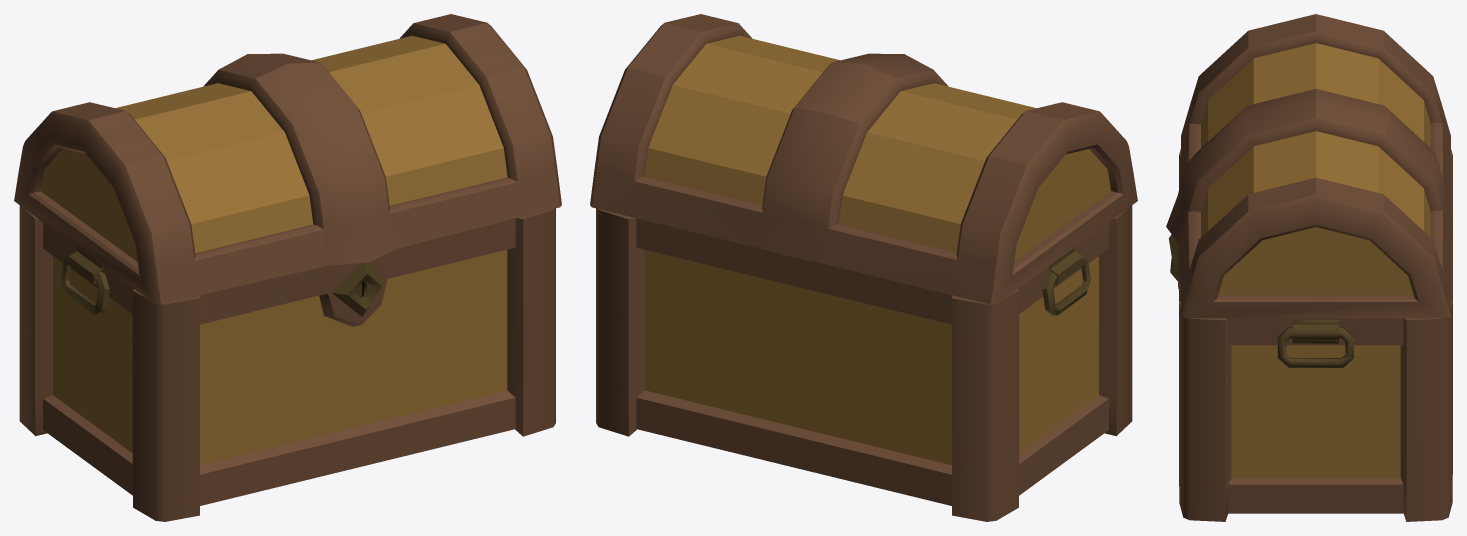
The model's file is box_04_animation.glb.
3 views of the same model, side by side, from view 1: azimuth 30°, elevation 25°; view 2: azimuth 150°, elevation 25°; view 3: azimuth 270°, elevation 25° (orthographic). The views are drawn at different scales.
Visible parts, largest first — view 1: box.04, Cylinder.011; view 2: box.04, Cylinder.011; view 3: Cylinder.011, box.04.
Boxes of the visible parts, x1,y1,x2,y2 form: box.04: (19,205,555,521); Cylinder.011: (14,14,561,304); box.04: (596,205,1132,521); Cylinder.011: (590,14,1137,304); Cylinder.011: (1166,14,1452,318); box.04: (1168,149,1452,521).
Size of the model in its own units: 1.12 by 0.9134 by 0.7137.
1 material, 1 textured.
